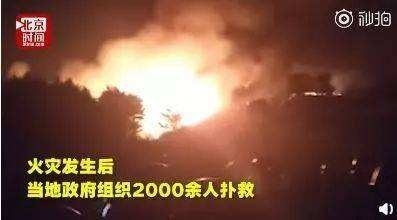fire: (93, 50, 227, 138)
